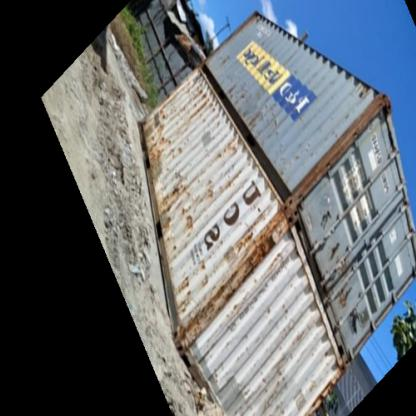Damage: (227, 361, 293, 415), (232, 205, 270, 271), (174, 260, 212, 314), (144, 130, 184, 167), (274, 146, 306, 182), (157, 178, 189, 210), (246, 108, 280, 138), (186, 83, 212, 121), (225, 77, 252, 108), (259, 301, 291, 322), (334, 281, 357, 309), (220, 167, 246, 191), (216, 140, 235, 162), (217, 49, 239, 68), (203, 175, 219, 201), (186, 212, 200, 232), (159, 102, 172, 120), (162, 216, 178, 230)
